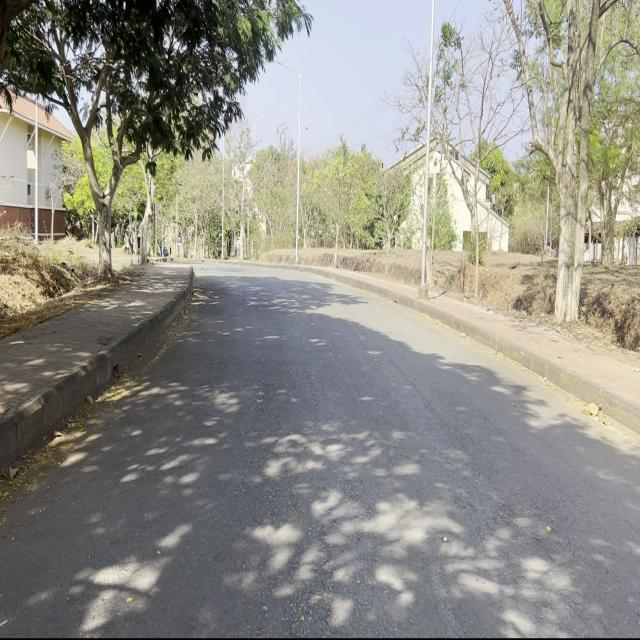Road: (4, 261, 637, 629)
